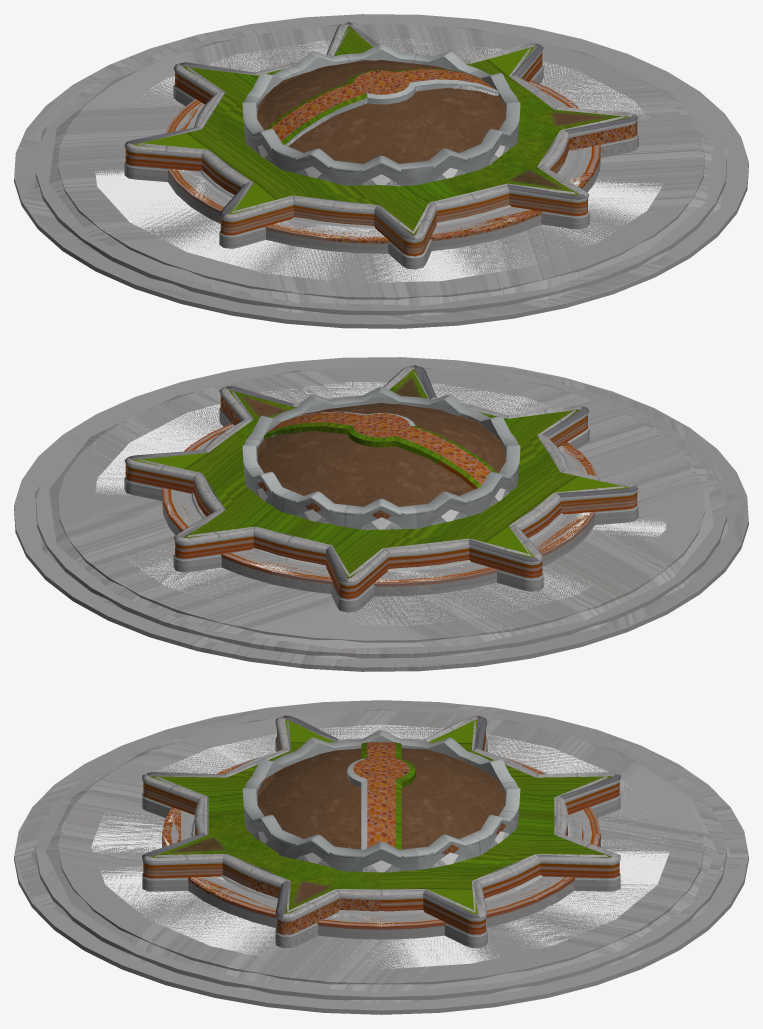
The model's file is objects_un_c01flowerbed01.gltf.
The picture shows the model from 3 angles, top to bottom: view 1: azimuth 30°, elevation 25°; view 2: azimuth 150°, elevation 25°; view 3: azimuth 270°, elevation 25°; orthographic projection.
Visible parts, largest first — view 1: um_objects_un_c01flowerbed01_model_lod0Shape:objects_un_c01f (×4), um_objects_un_c01flowerbed01_model_lod1Shape:objects_un_c01f (×2), um_objects_un_c01flowerbed01_model_lod2Shape:objects_un_c01f (×3); view 2: um_objects_un_c01flowerbed01_model_lod0Shape:objects_un_c01f (×4), um_objects_un_c01flowerbed01_model_lod2Shape:objects_un_c01f (×3), um_objects_un_c01flowerbed01_model_lod1Shape:objects_un_c01f (×2); view 3: um_objects_un_c01flowerbed01_model_lod0Shape:objects_un_c01f (×4), um_objects_un_c01flowerbed01_model_lod1Shape:objects_un_c01f (×2), um_objects_un_c01flowerbed01_model_lod2Shape:objects_un_c01f (×3).
Boxes of the visible parts, x1,y1,x2,y2 form: um_objects_un_c01flowerbed01_model_lod0Shape:objects_un_c01f (×4): (14, 14, 748, 328); um_objects_un_c01flowerbed01_model_lod1Shape:objects_un_c01f (×2): (16, 15, 743, 323); um_objects_un_c01flowerbed01_model_lod2Shape:objects_un_c01f (×3): (34, 24, 728, 315); um_objects_un_c01flowerbed01_model_lod0Shape:objects_un_c01f (×4): (14, 357, 748, 671); um_objects_un_c01flowerbed01_model_lod2Shape:objects_un_c01f (×3): (34, 367, 728, 658); um_objects_un_c01flowerbed01_model_lod1Shape:objects_un_c01f (×2): (16, 358, 747, 666); um_objects_un_c01flowerbed01_model_lod0Shape:objects_un_c01f (×4): (14, 700, 748, 1014); um_objects_un_c01flowerbed01_model_lod1Shape:objects_un_c01f (×2): (14, 700, 747, 1010); um_objects_un_c01flowerbed01_model_lod2Shape:objects_un_c01f (×3): (31, 709, 731, 1003).
Bounding box in the file's own units: 17.93 × 2.44 × 17.93.
Materials: 4 (3 with a texture image).
